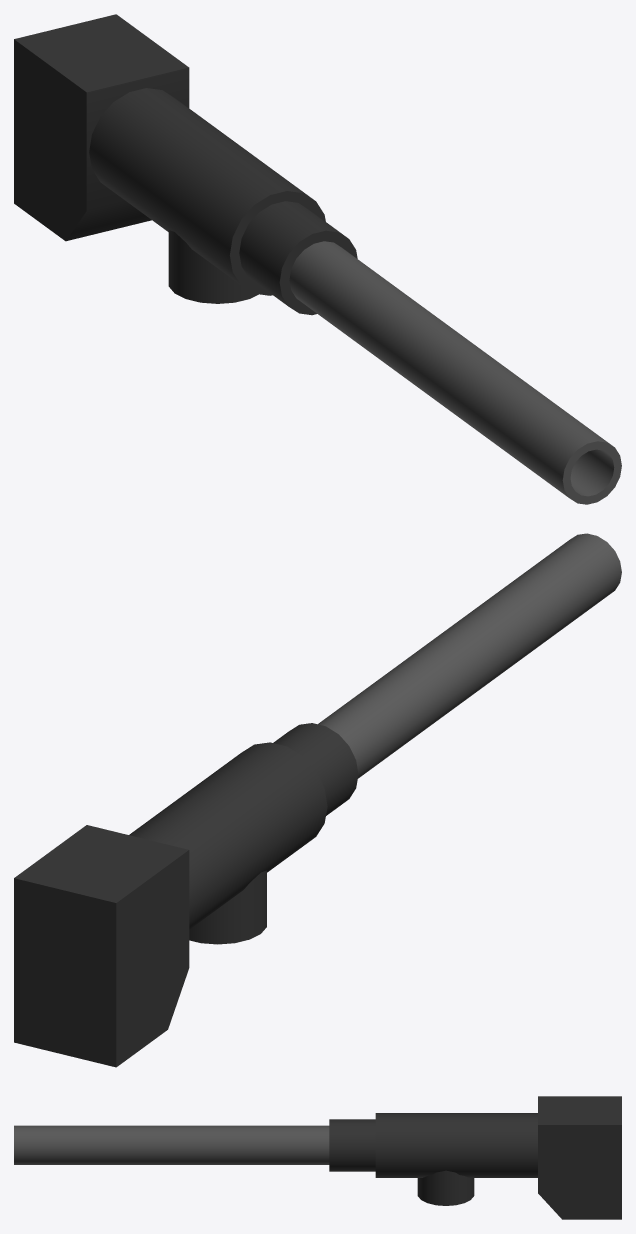
File: mp_ball_cannon.FBX
3 renders of one model, top to bottom at view 1: azimuth 30°, elevation 25°; view 2: azimuth 150°, elevation 25°; view 3: azimuth 270°, elevation 25°, orthographic. The views are drawn at different scales.
Parts seen in each view (by area): view 1: Sphere001; view 2: Sphere001; view 3: Sphere001.
Part boxes in pixels (x1,y1,x2,y2): Sphere001: (14,14,621,504); Sphere001: (14,533,621,1067); Sphere001: (14,1096,621,1219).
Size of the model in its own units: 66.14 by 101 by 590.
